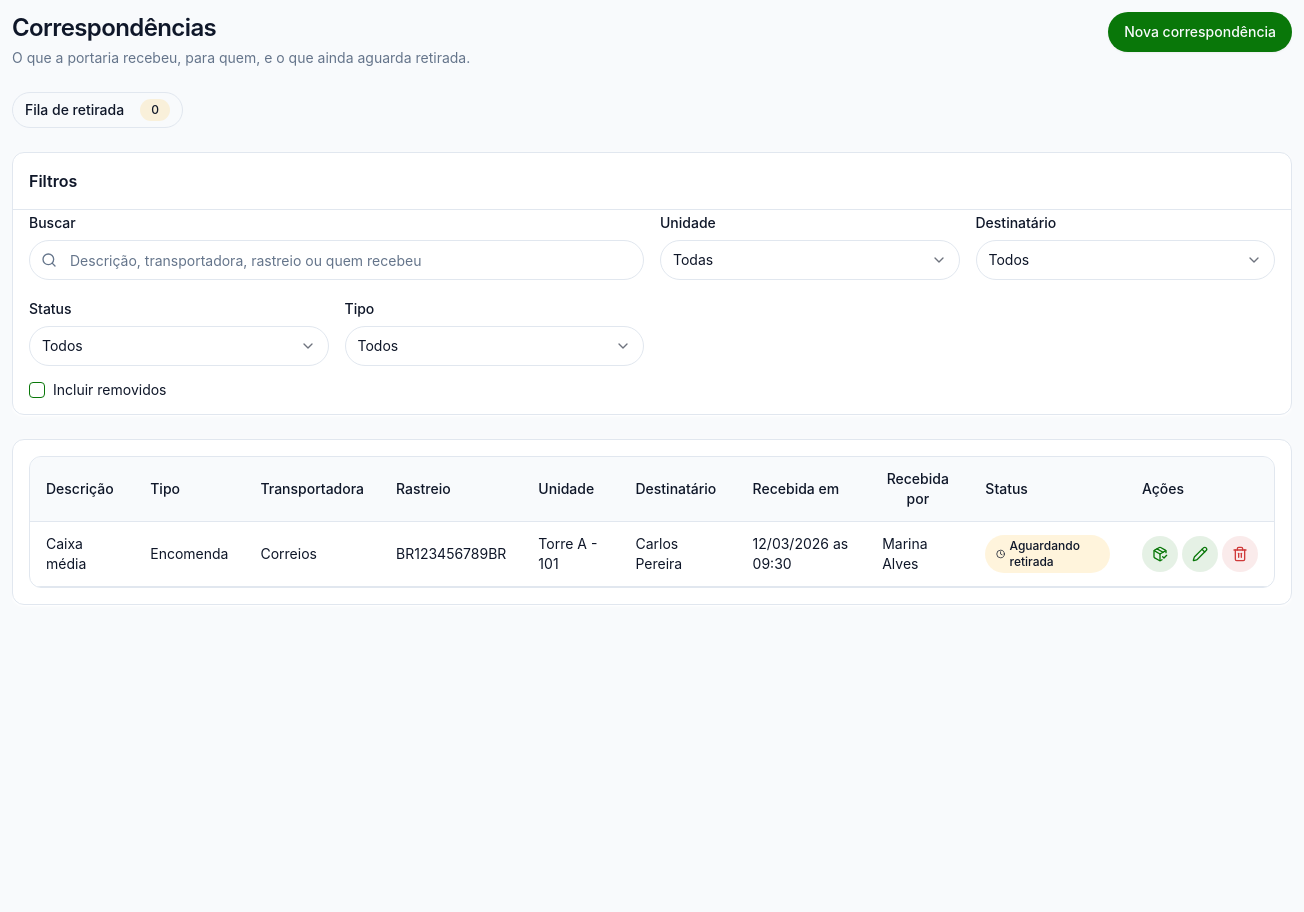
Test: Estados vazios de correspondências › busca sem resultado oferece limpar, e e distinta da lista vazia
Expected: the text "Caixa média" is shown, x1=46 y1=535 x2=86 y2=572
Type "Nada" into the field labelled "Buscar" at x=336, y=260, box x1=29 y1=240 x2=644 y2=280
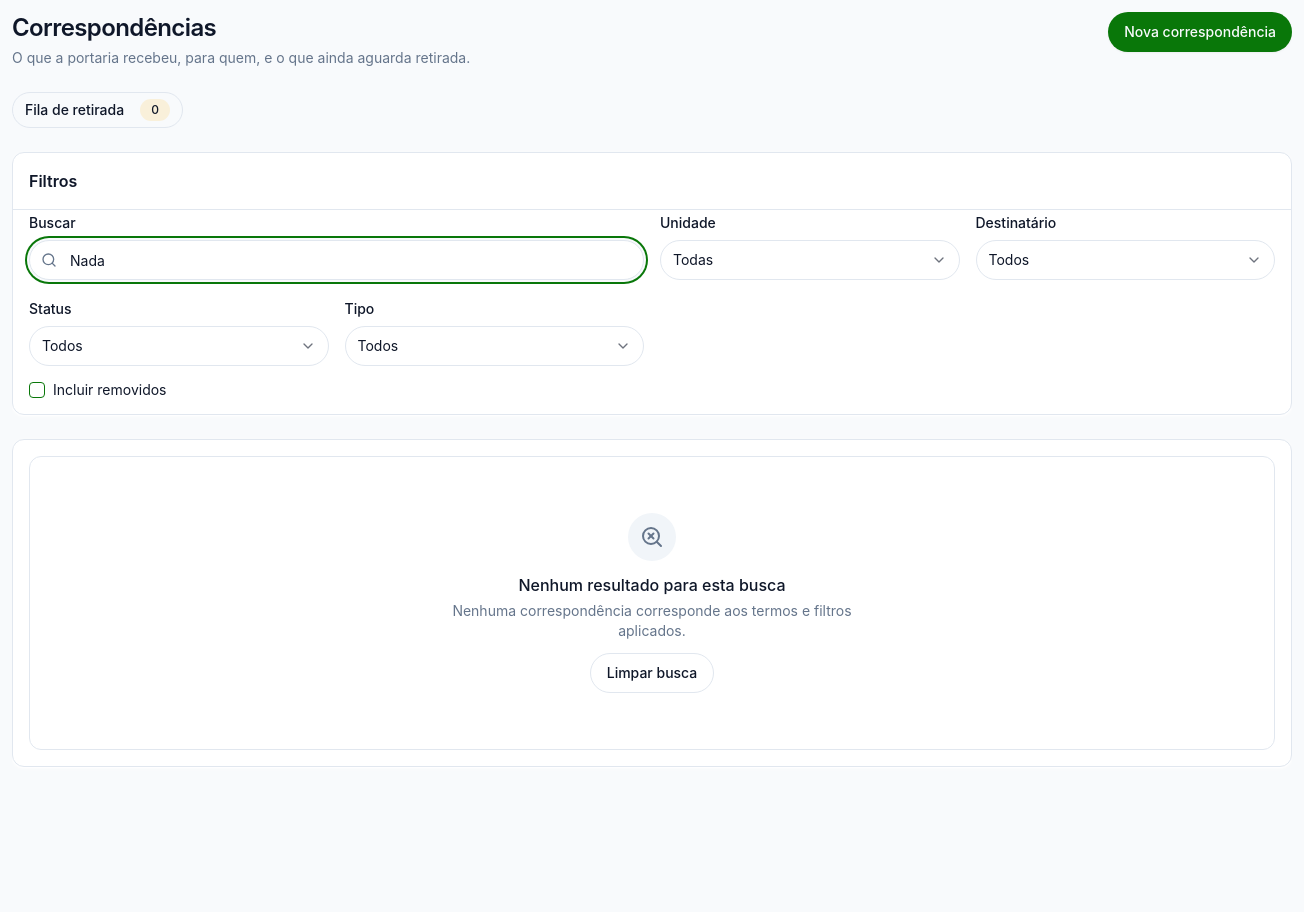
Now the text "Nenhum resultado para esta busca" is shown, box x1=518 y1=575 x2=786 y2=595
Now the button "Limpar busca" is shown, box x1=590 y1=653 x2=714 y2=693
